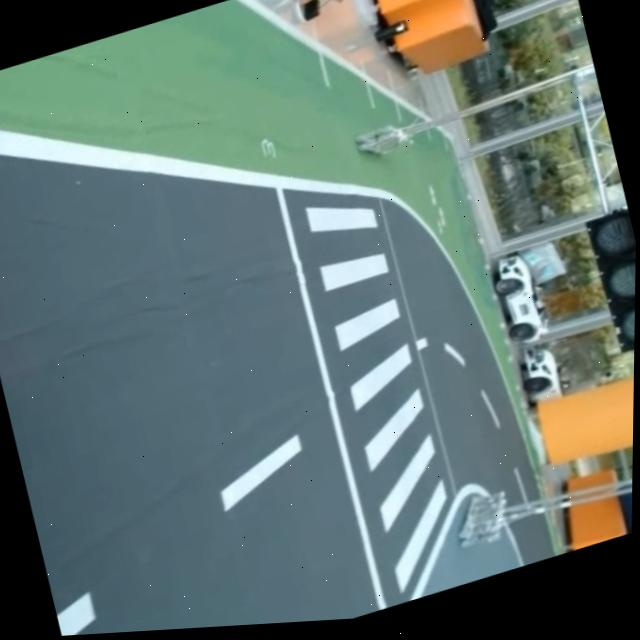traffic-light: (582, 205, 636, 358)
